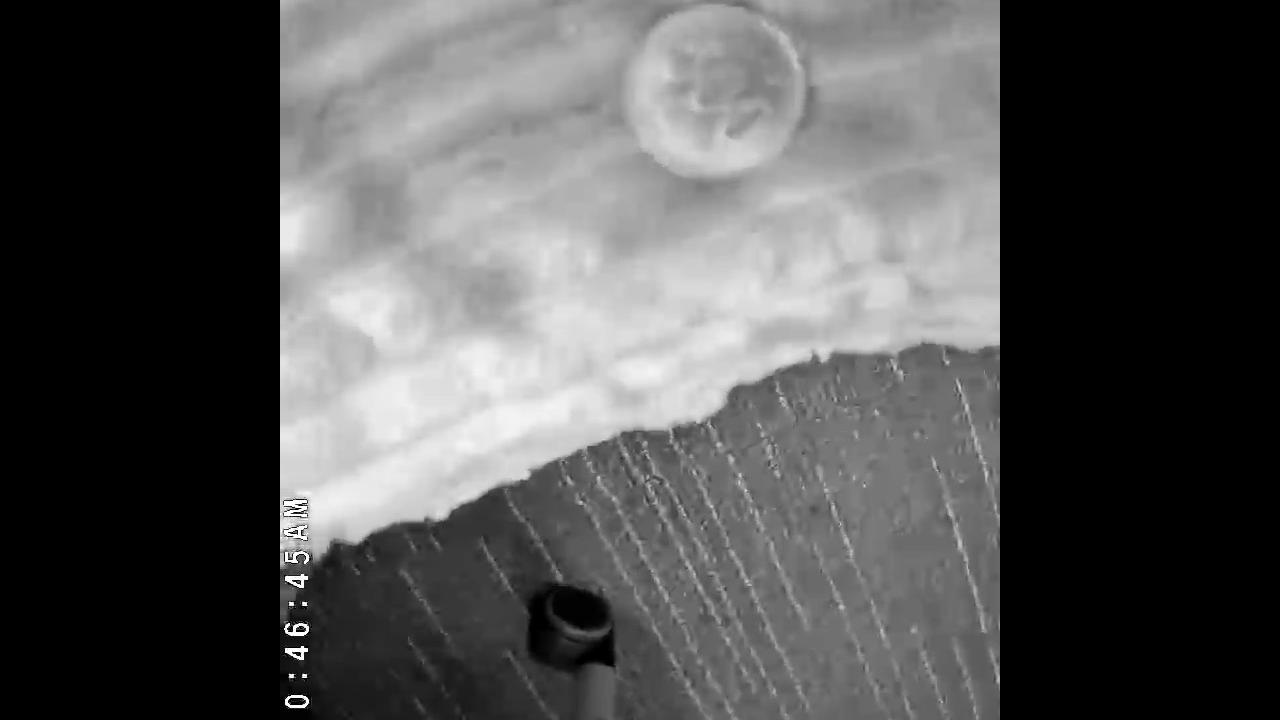coin: (616, 1, 814, 185)
